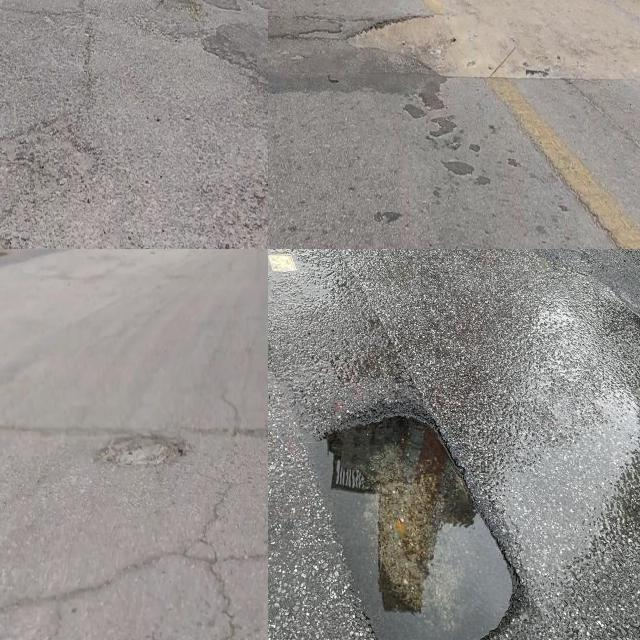Pothole: (312, 417, 515, 640), (346, 11, 486, 79), (93, 431, 188, 472)
